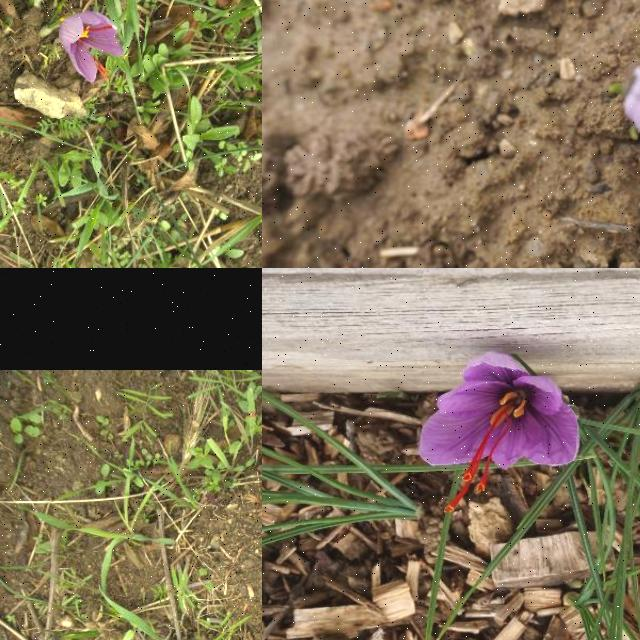flower: (418, 353, 582, 514), (58, 10, 124, 84)
